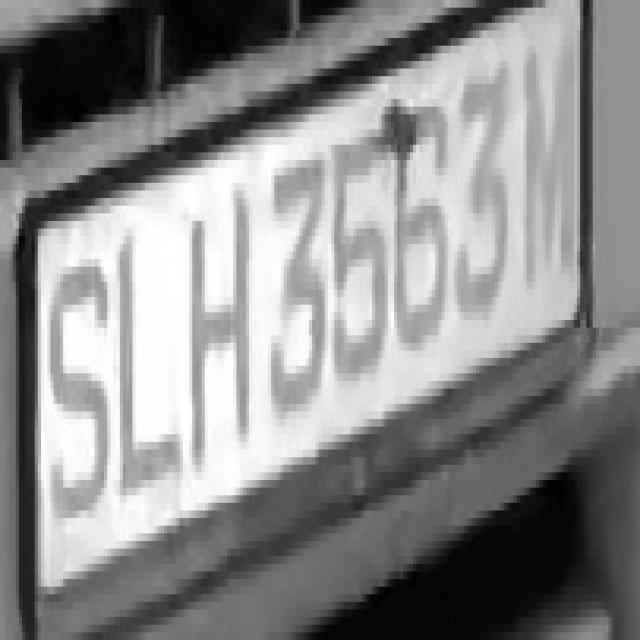3: (457, 53, 514, 358), (271, 137, 331, 419)
5: (331, 122, 394, 419)
6: (391, 53, 451, 358)
H: (186, 160, 255, 472)
L: (114, 206, 192, 495)
M: (524, 23, 584, 312)
S: (48, 236, 110, 541)
